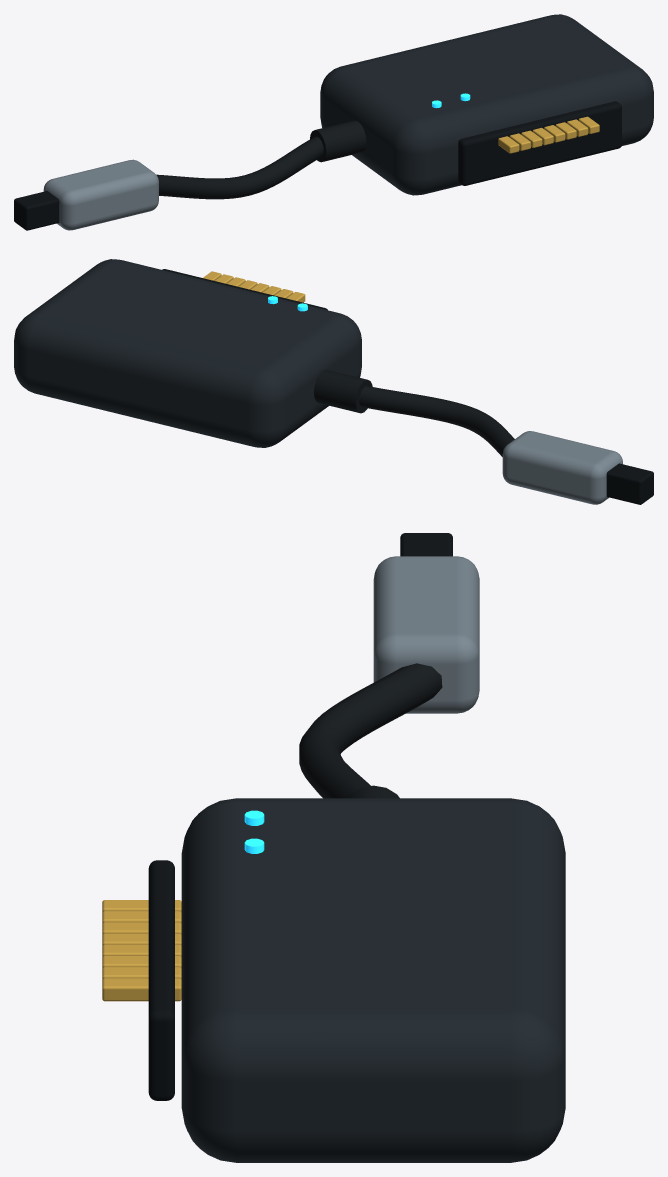
Rendered from usb-ethernet-adapter.glb.
3 renders of one model, top to bottom at view 1: azimuth 30°, elevation 25°; view 2: azimuth 150°, elevation 25°; view 3: azimuth 270°, elevation 25°, orthographic. The views are drawn at different scales.
Visible parts, largest first — view 1: Ethernet adapter housing, RJ45 socket, USB-A plug, USB cable, Cable strain relief, Premium USB 3 Ethernet adapter; view 2: Ethernet adapter housing, USB-A plug, USB cable, Cable strain relief, Premium USB 3 Ethernet adapter, RJ45 socket; view 3: Ethernet adapter housing, USB-A plug, USB cable, RJ45 socket, RJ45 contact, Premium USB 3 Ethernet adapter.
Boxes of the visible parts, x1=… form: Ethernet adapter housing: x1=320, y1=14, x2=653, y2=195; RJ45 socket: x1=458, y1=101, x2=621, y2=185; USB-A plug: x1=43, y1=159, x2=158, y2=230; USB cable: x1=156, y1=136, x2=323, y2=199; Cable strain relief: x1=310, y1=120, x2=366, y2=162; Premium USB 3 Ethernet adapter: x1=14, y1=191, x2=59, y2=230; Ethernet adapter housing: x1=14, y1=259, x2=361, y2=447; USB-A plug: x1=502, y1=431, x2=622, y2=504; USB cable: x1=359, y1=386, x2=514, y2=456; Cable strain relief: x1=314, y1=369, x2=372, y2=413; Premium USB 3 Ethernet adapter: x1=606, y1=463, x2=653, y2=504; RJ45 socket: x1=162, y1=269, x2=327, y2=310; Ethernet adapter housing: x1=181, y1=798, x2=565, y2=1162; USB-A plug: x1=373, y1=556, x2=479, y2=713; USB cable: x1=299, y1=663, x2=442, y2=798; RJ45 socket: x1=148, y1=860, x2=174, y2=1100; RJ45 contact: x1=102, y1=978, x2=181, y2=1001; Premium USB 3 Ethernet adapter: x1=400, y1=533, x2=452, y2=556.
Size of the model in its own units: 2.03 by 0.271 by 0.7.
